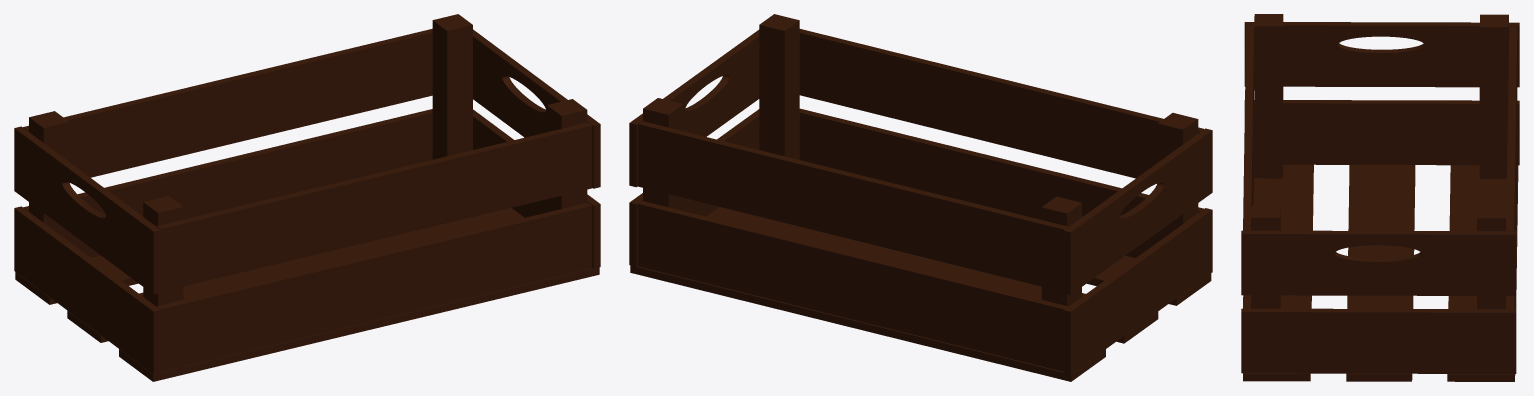
File: WoodenCrate_lowpoly.obj
The picture shows the model from 3 angles, left to right: view 1: azimuth 30°, elevation 25°; view 2: azimuth 150°, elevation 25°; view 3: azimuth 270°, elevation 25°; orthographic projection. The views are drawn at different scales.
Parts seen in each view (by area): view 1: Cube.010_Cube.025; view 2: Cube.010_Cube.025; view 3: Cube.010_Cube.025.
Boxes of the visible parts, x1,y1,x2,y2 form: Cube.010_Cube.025: (14, 14, 600, 381); Cube.010_Cube.025: (629, 14, 1212, 381); Cube.010_Cube.025: (1241, 14, 1519, 381).
Bounding box in the file's own units: 5.57 × 1.95 × 3.08.
